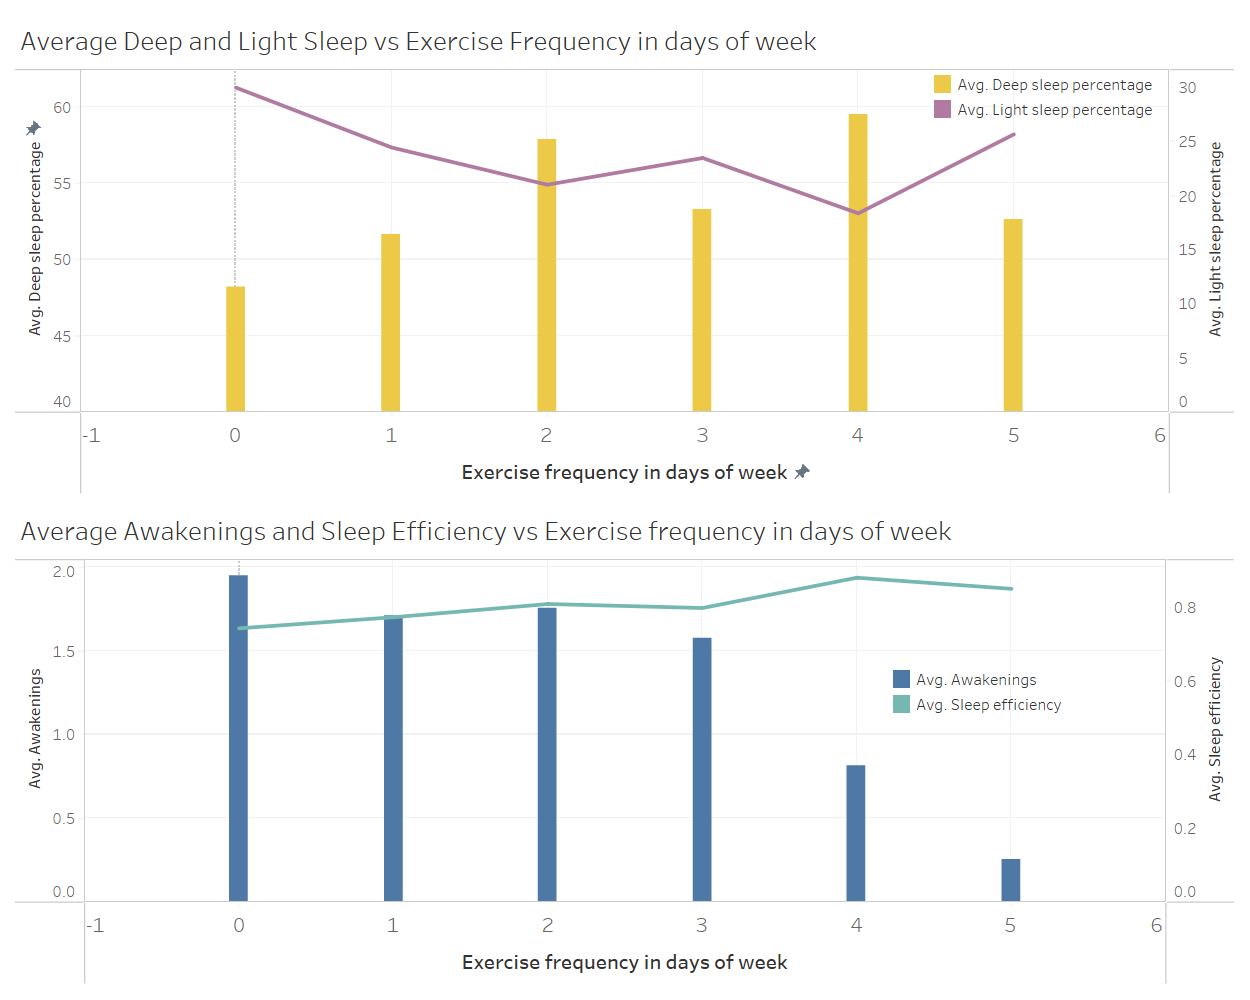

This screenshot's page, from the dashboard's own definition file:
{"tool":"tableau","page":{"name":"Exercise","canvas":[1000,800],"ordinal":3},"visuals":[{"type":"worksheet","title":"Exercise2","mark":"Automatic","rows":["Deep_sleep_percentage","Light_sleep_percentage"],"cols":["Exercise_frequency"],"box":[8,8,984,392]},{"type":"legend","title":"Exercise2","param":"[federated.1egdo8a0x6abof1dpv9a90n0f7e9].[:Measure Names]","box":[744,57,183,40]},{"type":"worksheet","title":"Exercise3","mark":"Automatic","rows":["Awakenings","Sleep_efficiency"],"cols":["Exercise_frequency"],"box":[8,400,984,392]},{"type":"legend","title":"Exercise3","param":"[federated.1egdo8a0x6abof1dpv9a90n0f7e9].[:Measure Names]","box":[711,533,143,40]}]}

Visuals, with their boxes in screenshot pixels (x1, y1, x2, y2), scaled from the page's 1000x800 canvas onto the 1250x1000 screenshot:
"Exercise2" worksheet: 10 10 1240 500
"Exercise2" legend: 930 71 1159 121
"Exercise3" worksheet: 10 500 1240 990
"Exercise3" legend: 889 666 1068 716
